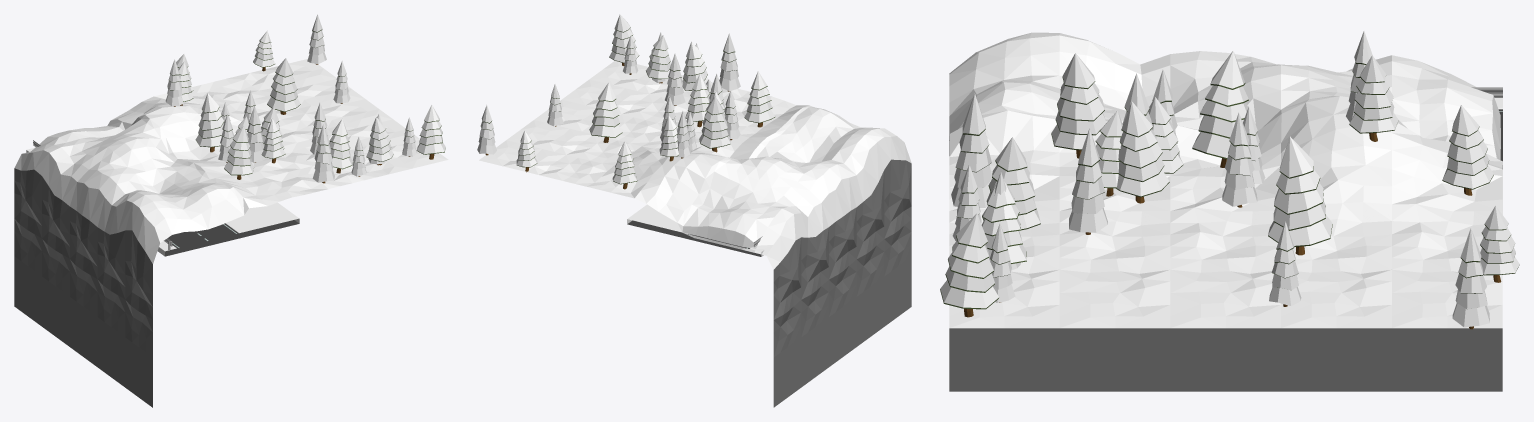
File: SnowRoadBehind.fbx
3 views of the same model, side by side, from view 1: azimuth 30°, elevation 25°; view 2: azimuth 150°, elevation 25°; view 3: azimuth 270°, elevation 25° (orthographic). The views are drawn at different scales.
Parts seen in each view (by area): view 1: SRBPlane, SRBRoad, SRBPlane|pineTree04|Dupli|19, SRBPlane|pineTree04|Dupli|15, SRBPlane|pineTree04|Dupli|11, SRBPlane|pineTree04|Dupli|3, SRBPlane|pineTree04|Dupli|5, SRBPlane|pineTree05|Dupli|4, SRBPlane|pineTree04|Dupli|1, SRBPlane|pineTree05|Dupli|12, SRBPlane|pineTree04|Dupli|9, SRBPlane|pineTree05|Dupli|22 (+6 smaller); view 2: SRBPlane, SRBRoad, SRBPlane|pineTree04|Dupli|19, SRBPlane|pineTree04|Dupli|15, SRBPlane|pineTree04|Dupli|11, SRBPlane|pineTree05|Dupli|4, SRBPlane|pineTree04|Dupli|5, SRBPlane|pineTree04|Dupli|13, SRBPlane|pineTree04|Dupli|1, SRBPlane|pineTree04|Dupli|3, SRBPlane|pineTree04|Dupli|21, SRBPlane|pineTree05|Dupli|10 (+6 smaller); view 3: SRBPlane, SRBPlane|pineTree04|Dupli|19, SRBPlane|pineTree04|Dupli|3, SRBPlane|pineTree04|Dupli|11, SRBPlane|pineTree04|Dupli|15, SRBPlane|pineTree04|Dupli|13, SRBPlane|pineTree04|Dupli|21, SRBPlane|pineTree05|Dupli|10, SRBPlane|pineTree04|Dupli|17, SRBPlane|pineTree05|Dupli|4, SRBPlane|pineTree05|Dupli|22, SRBPlane|pineTree04|Dupli|5 (+12 smaller).
Part boxes in pixels (<box>): SRBPlane: <box>14,59,448,407</box>; SRBRoad: <box>26,147,299,256</box>; SRBPlane|pineTree04|Dupli|19: <box>267,58,300,114</box>; SRBPlane|pineTree04|Dupli|15: <box>195,93,224,152</box>; SRBPlane|pineTree04|Dupli|11: <box>224,125,254,179</box>; SRBPlane|pineTree04|Dupli|3: <box>416,104,445,159</box>; SRBPlane|pineTree04|Dupli|5: <box>329,119,352,173</box>; SRBPlane|pineTree05|Dupli|4: <box>312,125,334,183</box>; SRBPlane|pineTree04|Dupli|1: <box>366,117,393,165</box>; SRBPlane|pineTree05|Dupli|12: <box>247,105,265,162</box>; SRBPlane|pineTree04|Dupli|9: <box>261,118,285,163</box>; SRBPlane|pineTree05|Dupli|22: <box>307,14,326,64</box>; SRBPlane: <box>479,60,911,407</box>; SRBRoad: <box>627,204,764,256</box>; SRBPlane|pineTree04|Dupli|19: <box>589,82,622,142</box>; SRBPlane|pineTree04|Dupli|15: <box>699,96,730,152</box>; SRBPlane|pineTree04|Dupli|11: <box>744,71,775,127</box>; SRBPlane|pineTree05|Dupli|4: <box>719,33,740,91</box>; SRBPlane|pineTree04|Dupli|5: <box>682,41,708,90</box>; SRBPlane|pineTree04|Dupli|13: <box>685,74,709,127</box>; SRBPlane|pineTree04|Dupli|1: <box>646,35,670,83</box>; SRBPlane|pineTree04|Dupli|3: <box>609,14,639,65</box>; SRBPlane|pineTree04|Dupli|21: <box>612,141,637,189</box>; SRBPlane|pineTree05|Dupli|10: <box>665,53,685,105</box>; SRBPlane: <box>949,32,1502,391</box>; SRBPlane|pineTree04|Dupli|19: <box>1268,136,1332,255</box>; SRBPlane|pineTree04|Dupli|3: <box>940,213,998,317</box>; SRBPlane|pineTree04|Dupli|11: <box>1051,53,1106,158</box>; SRBPlane|pineTree04|Dupli|15: <box>1192,51,1248,167</box>; SRBPlane|pineTree04|Dupli|13: <box>1116,101,1169,203</box>; SRBPlane|pineTree04|Dupli|21: <box>1442,105,1493,195</box>; SRBPlane|pineTree05|Dupli|10: <box>1069,128,1107,234</box>; SRBPlane|pineTree04|Dupli|17: <box>1349,55,1398,141</box>; SRBPlane|pineTree05|Dupli|4: <box>951,93,992,207</box>; SRBPlane|pineTree05|Dupli|22: <box>1452,228,1489,329</box>; SRBPlane|pineTree04|Dupli|5: <box>982,137,1040,230</box>.
Size of what is drawn, in the model's own units: 12762 by 9636 by 10473.
